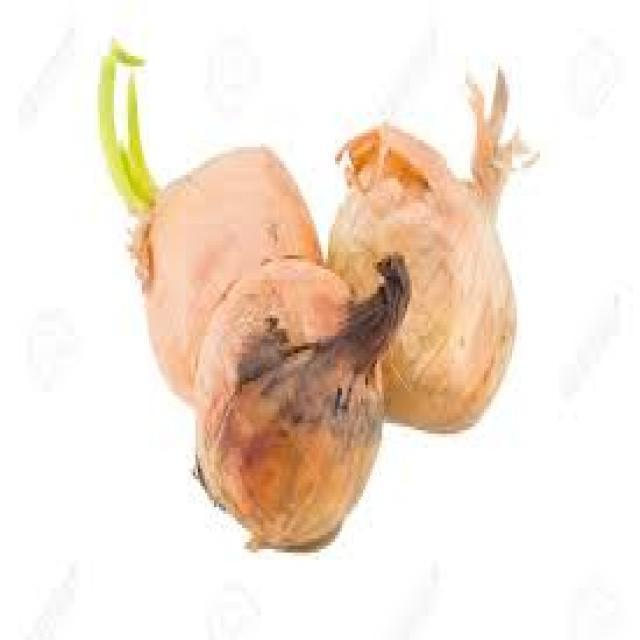Onion: (329, 64, 541, 432), (188, 253, 415, 557), (124, 148, 320, 410), (99, 39, 163, 211)
